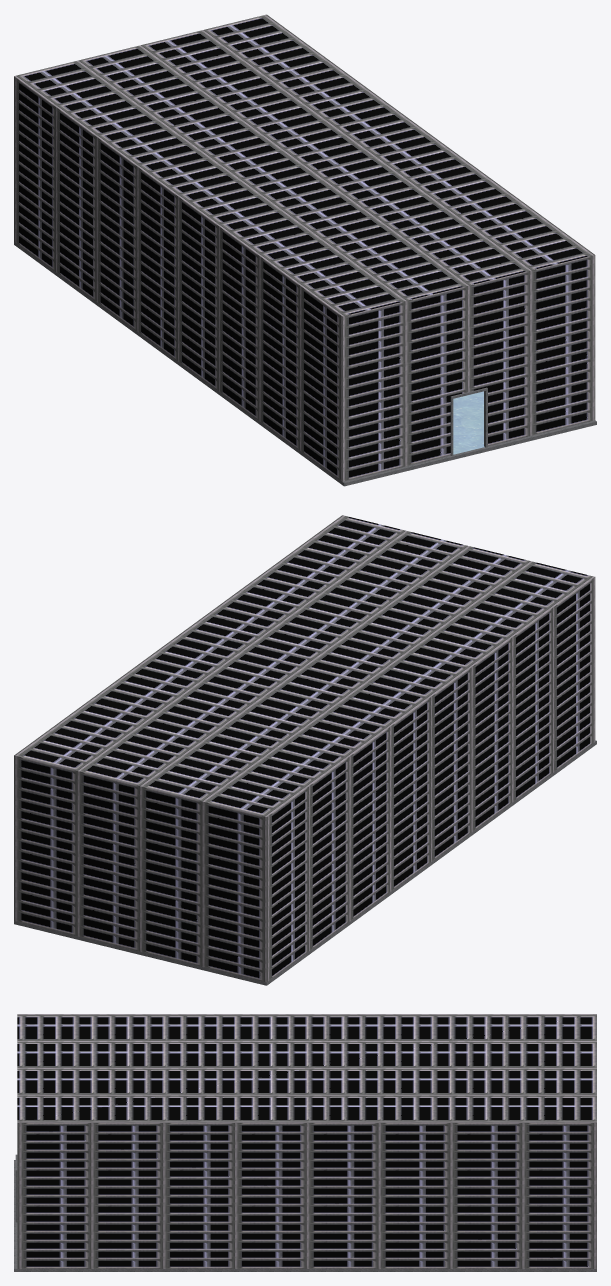
The model's file is Jaula_Bateo.obj.
3 renders of one model, top to bottom at view 1: azimuth 30°, elevation 25°; view 2: azimuth 150°, elevation 25°; view 3: azimuth 270°, elevation 25°, orthographic. The views are drawn at different scales.
Parts seen in each view (by area): view 1: Jaula; view 2: Jaula; view 3: Jaula.
Boxes of the visible parts, bbox=[...] form: Jaula: bbox=[14, 14, 596, 486]; Jaula: bbox=[14, 515, 596, 985]; Jaula: bbox=[14, 1014, 596, 1271].
Size of the model in its own units: 8 by 5.1 by 18.1.
Materials: 3 (3 with a texture image).
